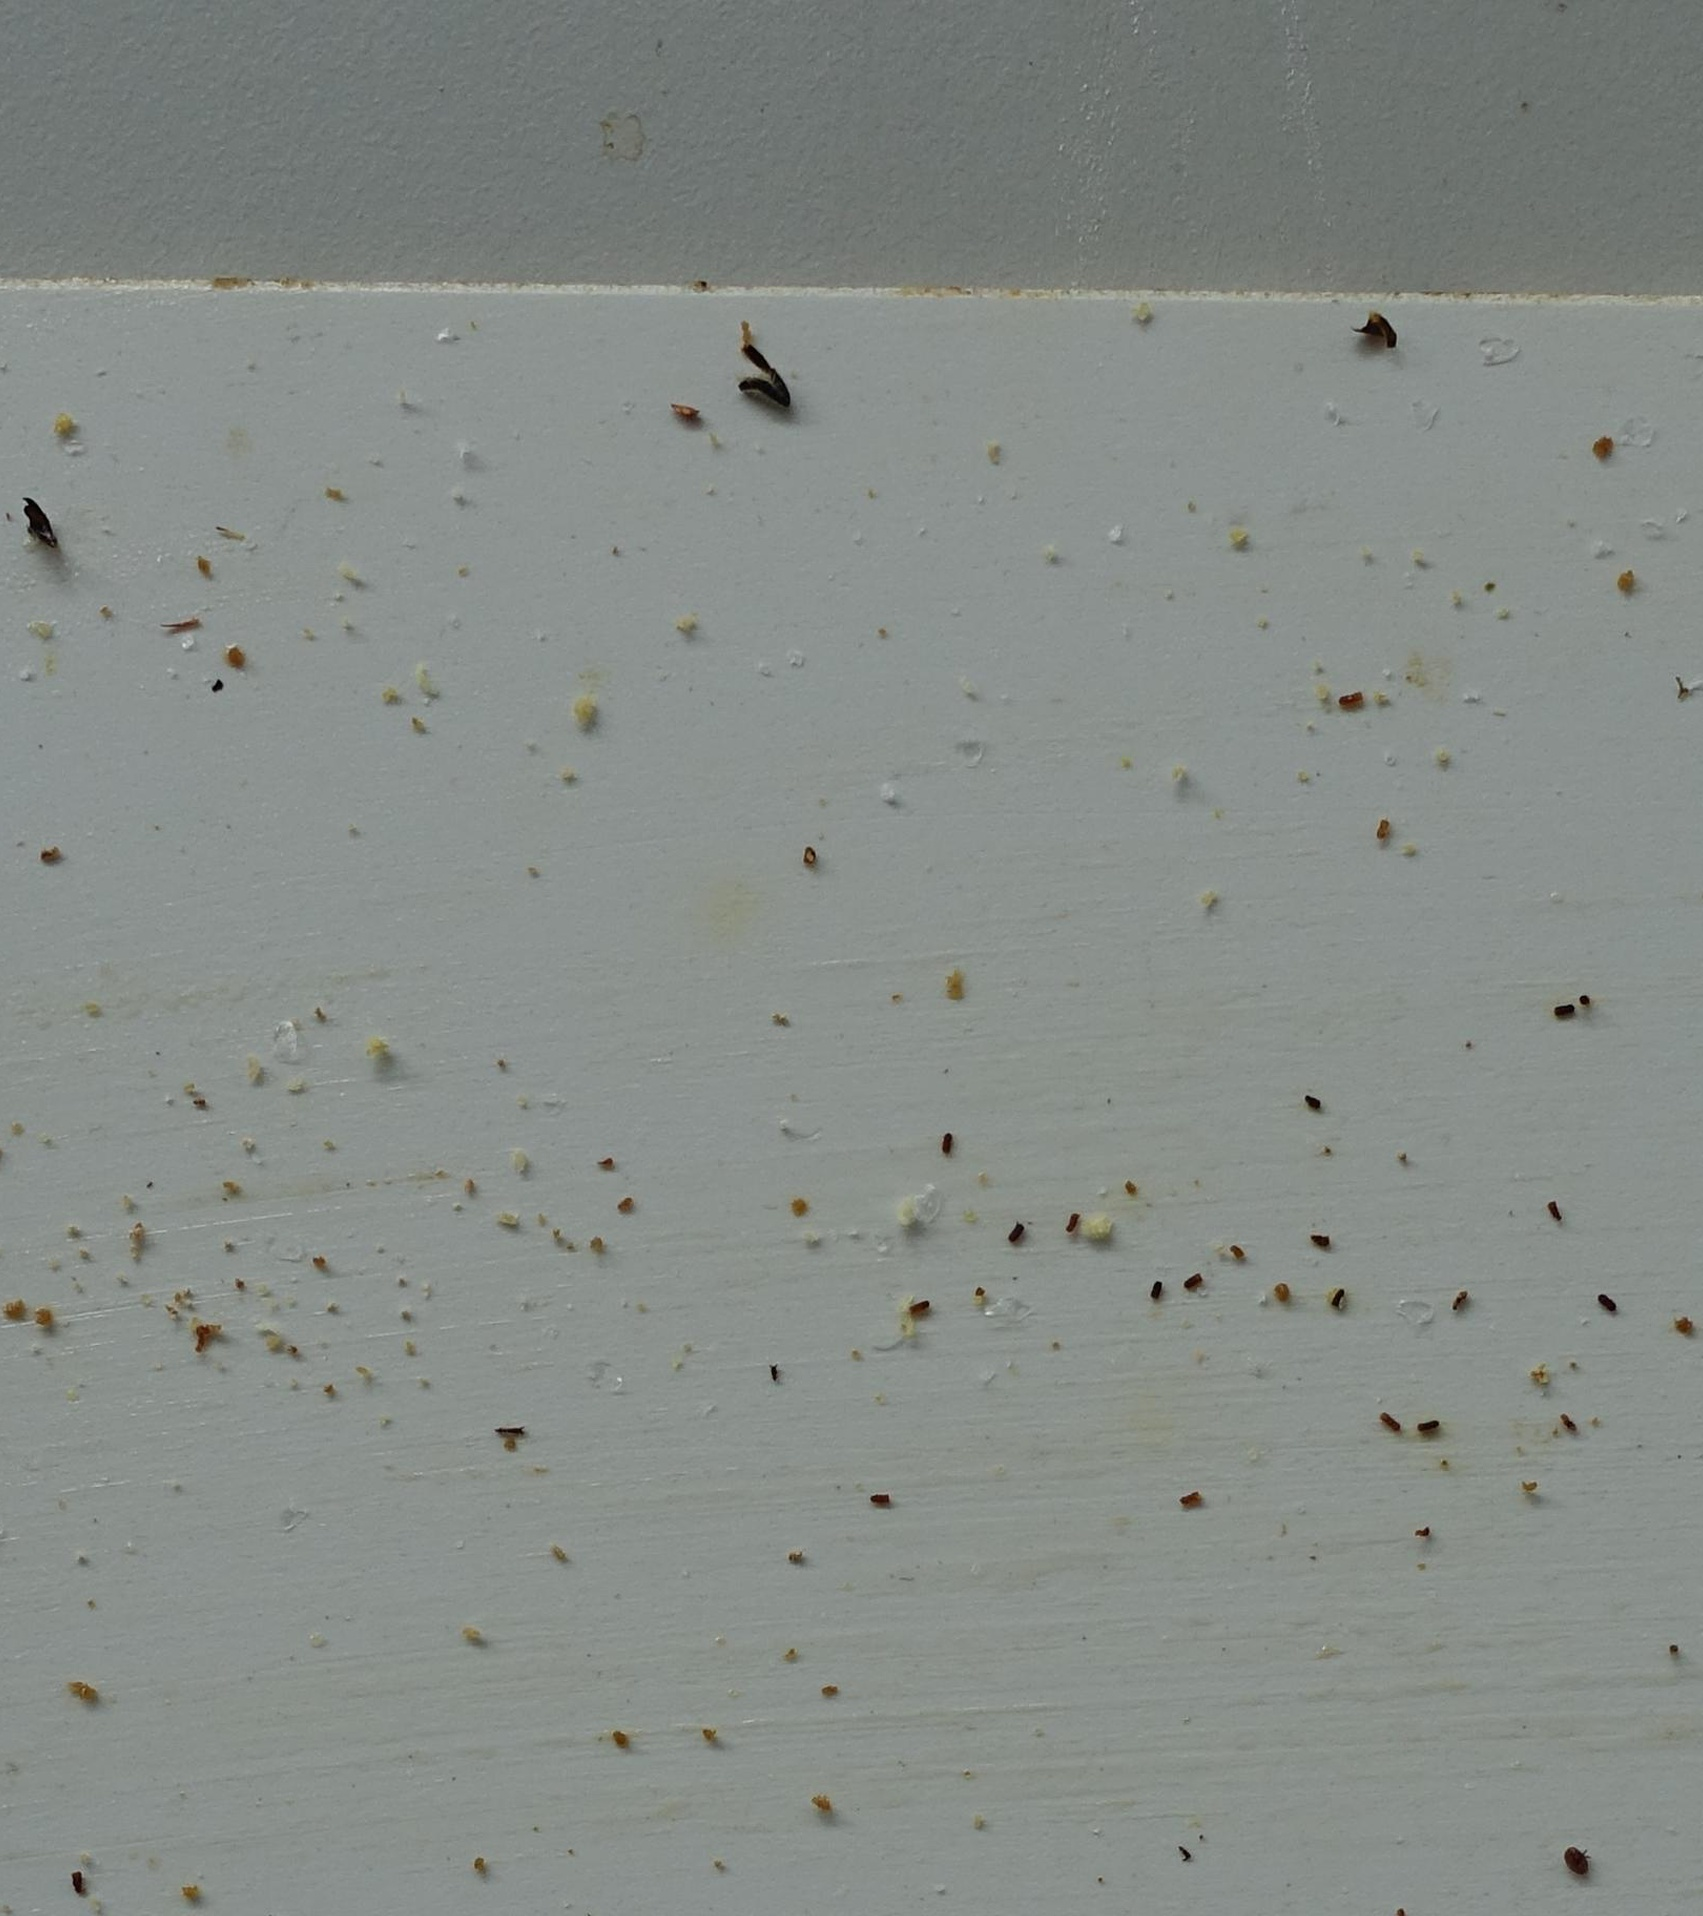Varroa: (1565, 1845, 1586, 1868)
